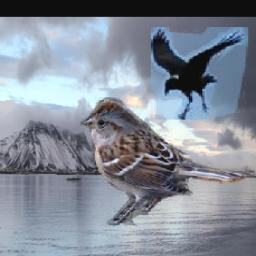Crow: (150, 28, 247, 121)
Sparrow: (80, 98, 255, 228)
